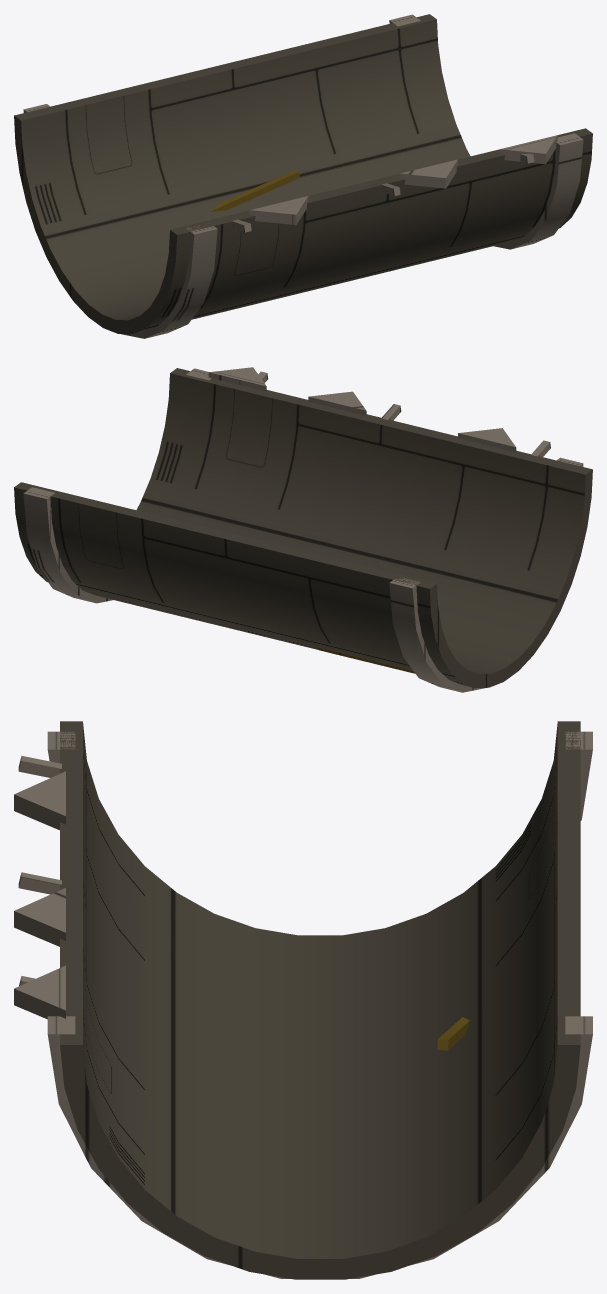
File: cargo-split-pressure-vessel_lod1.glb
The picture shows the model from 3 angles, top to bottom: view 1: azimuth 30°, elevation 25°; view 2: azimuth 150°, elevation 25°; view 3: azimuth 270°, elevation 25°; orthographic projection. The views are drawn at different scales.
Visible parts, largest first — view 1: LOD1_Hull, LOD1_BrushedMetal, LOD1_Livery; view 2: LOD1_Hull, LOD1_BrushedMetal; view 3: LOD1_Hull, LOD1_BrushedMetal.
Boxes of the visible parts, left/top/right/bottom form: LOD1_Hull: left=14, top=14, right=592, bottom=334; LOD1_BrushedMetal: left=23, top=14, right=583, bottom=338; LOD1_Livery: left=210, top=169, right=300, bottom=211; LOD1_Hull: left=14, top=368, right=592, bottom=688; LOD1_BrushedMetal: left=23, top=367, right=583, bottom=692; LOD1_Hull: left=60, top=721, right=580, bottom=1279; LOD1_BrushedMetal: left=14, top=731, right=592, bottom=1278.
Bounding box in the file's own units: 2.5 × 0.9109 × 1.89.
Materials: 3 (3 with a texture image).
